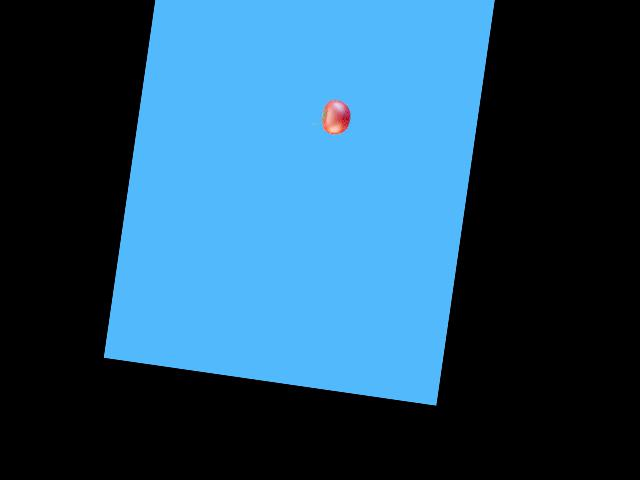tomato: (320, 98, 353, 136)
